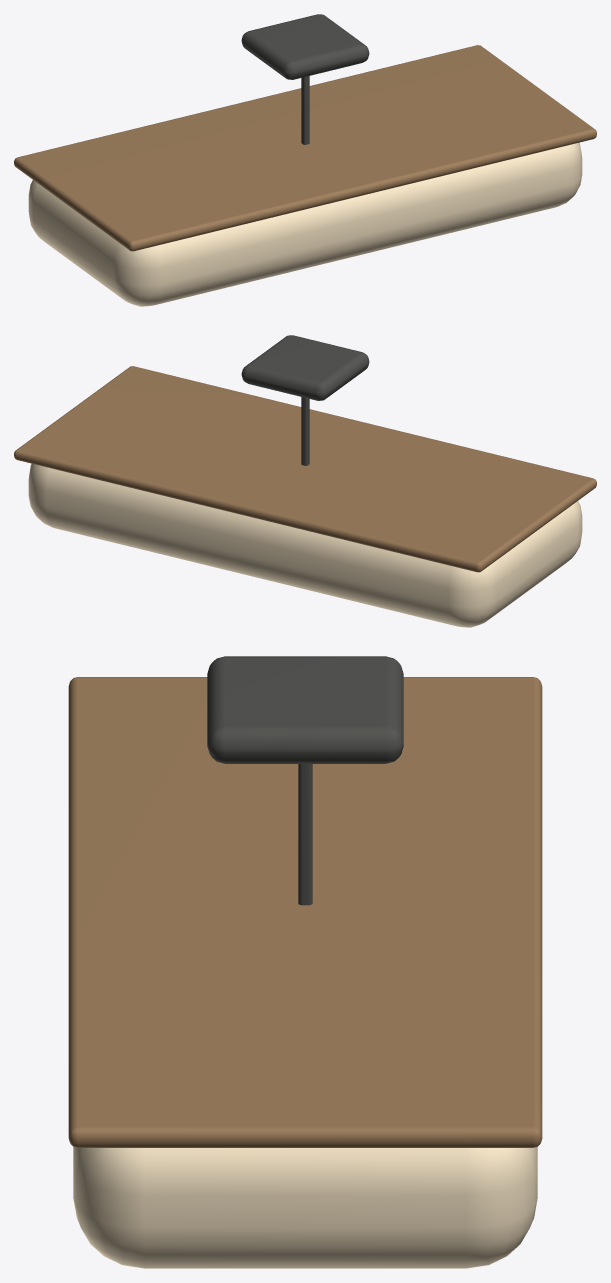
The model's file is Pendant120.fbx.
3 views of the same model, one above another, from view 1: azimuth 30°, elevation 25°; view 2: azimuth 150°, elevation 25°; view 3: azimuth 270°, elevation 25° (orthographic). The views are drawn at different scales.
Visible parts, largest first — view 1: Pendant120; view 2: Pendant120; view 3: Pendant120.
Boxes of the visible parts, bbox=[...] form: Pendant120: bbox=[14, 14, 596, 306]; Pendant120: bbox=[14, 335, 596, 627]; Pendant120: bbox=[68, 656, 542, 1268].
Size of the model in its own units: 1.21 by 0.4625 by 0.53.
